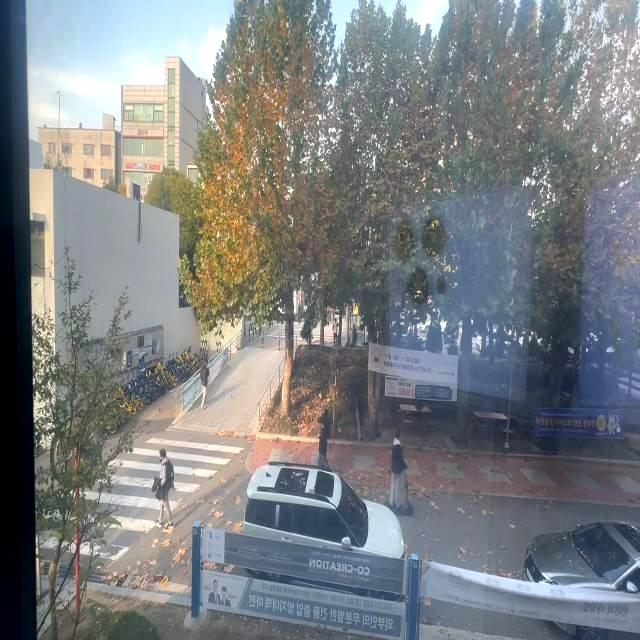bare_head: (389, 429, 412, 446)
human: (383, 427, 402, 506)
kickboard: (381, 502, 423, 517)
